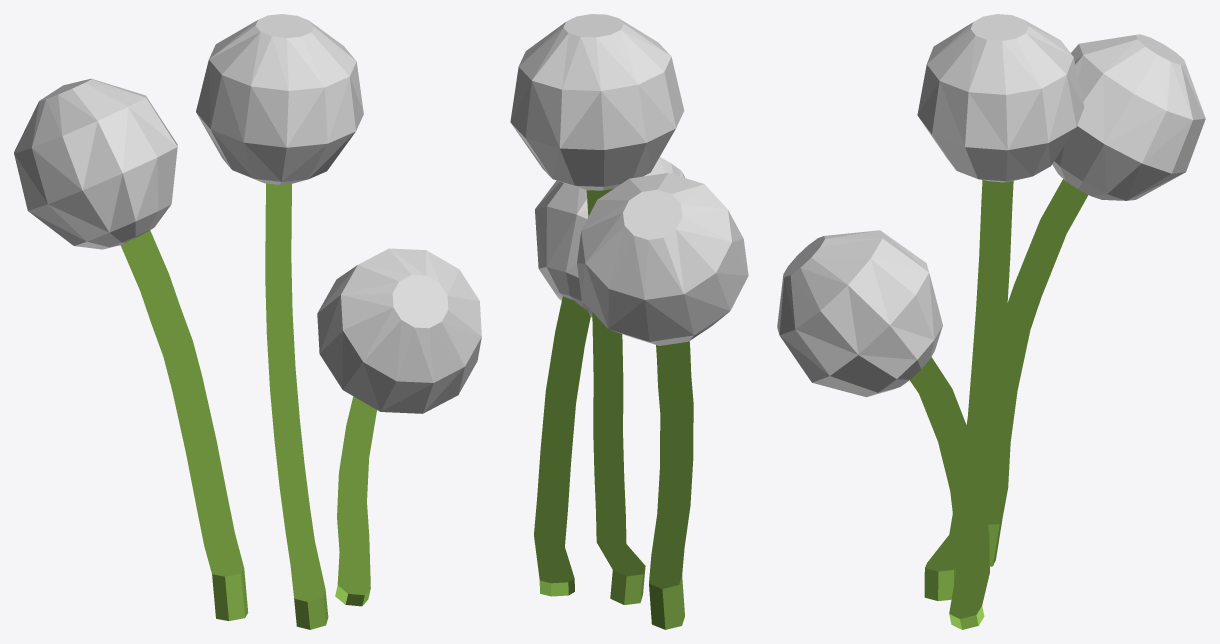
File: scene_ohXTgrv4rv.glb
3 renders of one model, left to right at view 1: azimuth 30°, elevation 25°; view 2: azimuth 150°, elevation 25°; view 3: azimuth 270°, elevation 25°, orthographic. The views are drawn at different scales.
Visible parts, largest first — view 1: Node; view 2: Node; view 3: Node.
Part boxes in pixels (x1,y1,x2,y2): Node: [14, 14, 481, 629]; Node: [510, 14, 748, 629]; Node: [777, 14, 1205, 629].
Bounding box in the file's own units: 0.1058 × 0.1867 × 0.1259.
